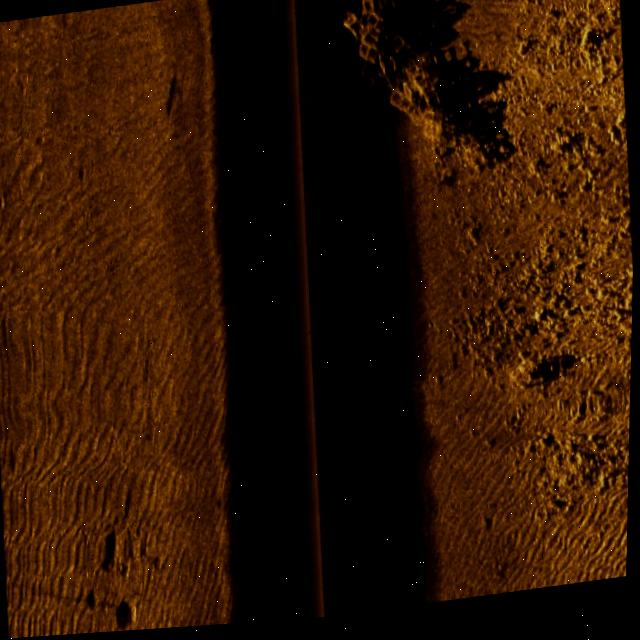artificial reef: (325, 0, 520, 226), (205, 0, 259, 78)
